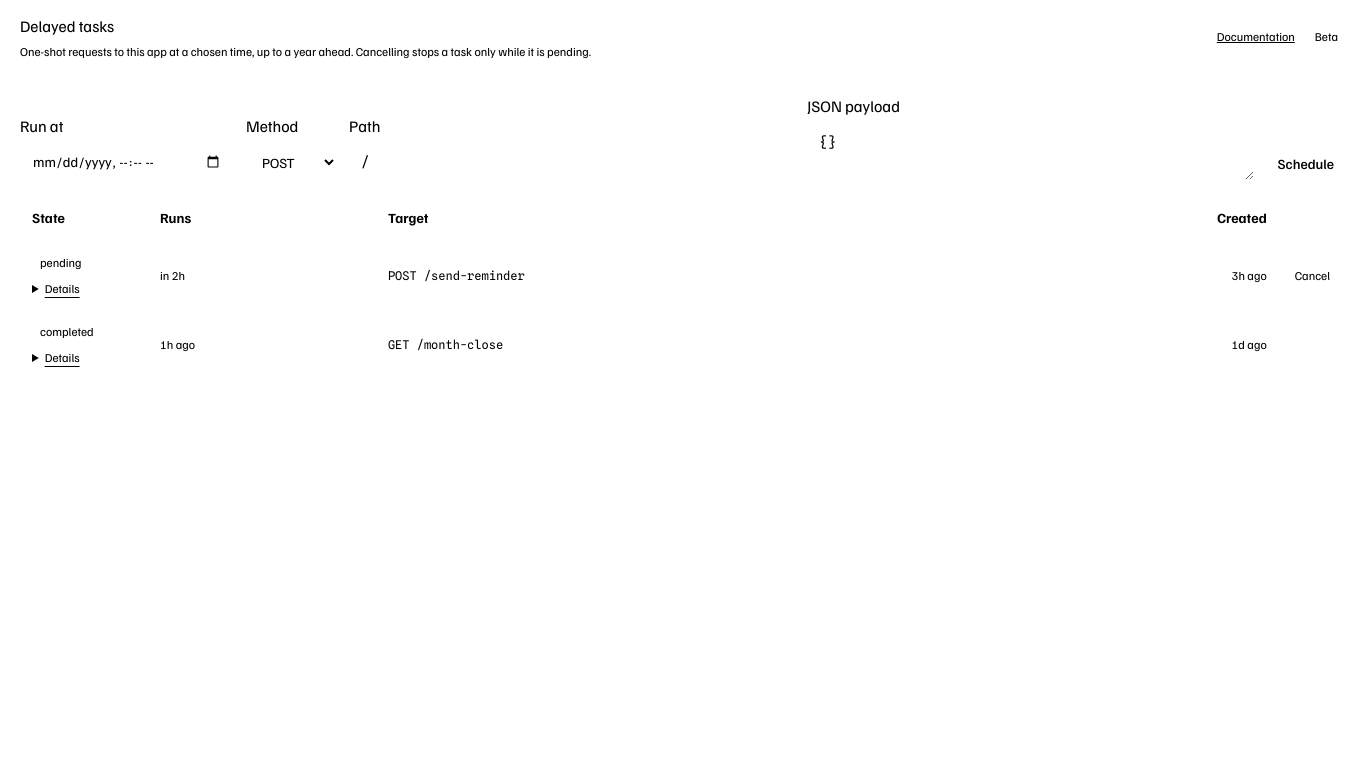
Test: DelayedTasks cancel › offers cancel only on pending tasks, and asks before cancelling
The width and height of the screenshot is (1366, 768).
Click the button with aria-label "cancel task" at x=1312, y=276, box top-left (1295, 268), bottom-right (1330, 284)
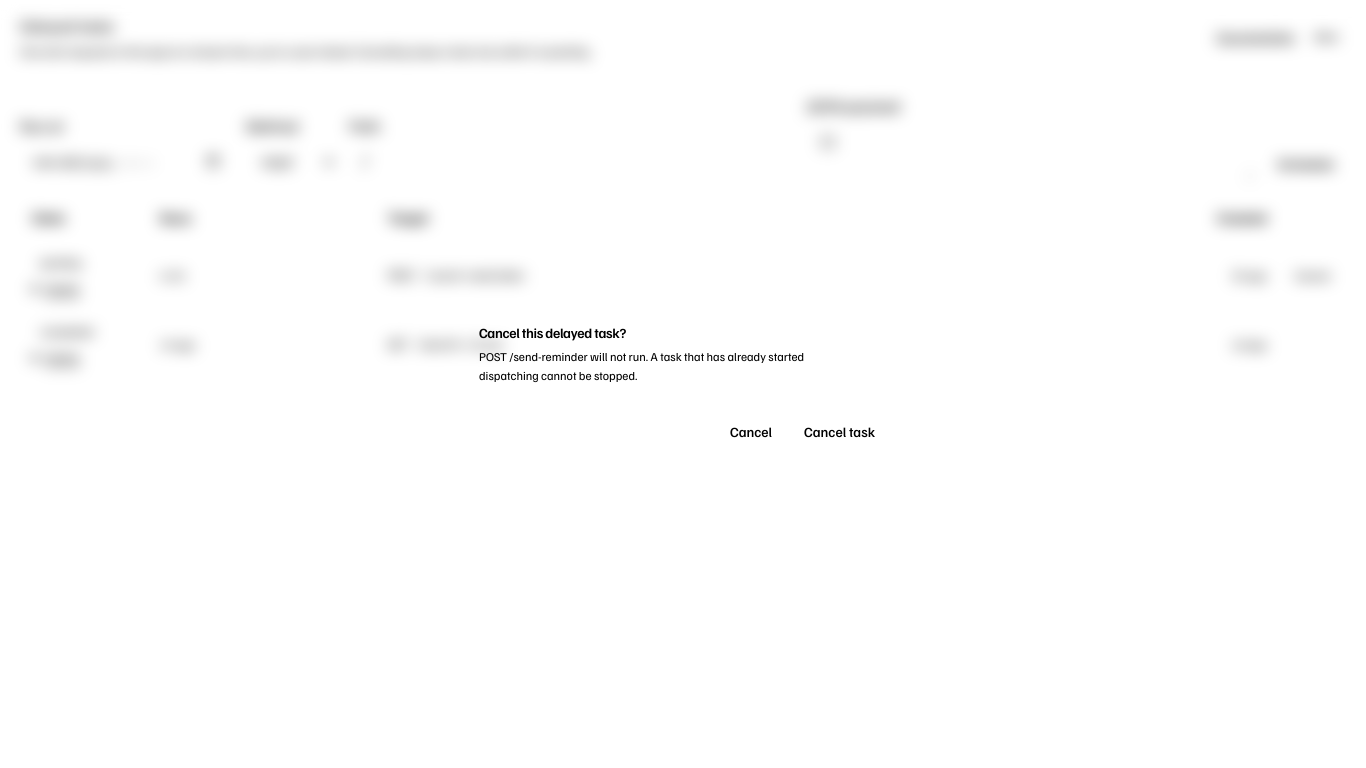
Click the button "Cancel task" at x=840, y=432, box top-left (792, 416), bottom-right (887, 448)
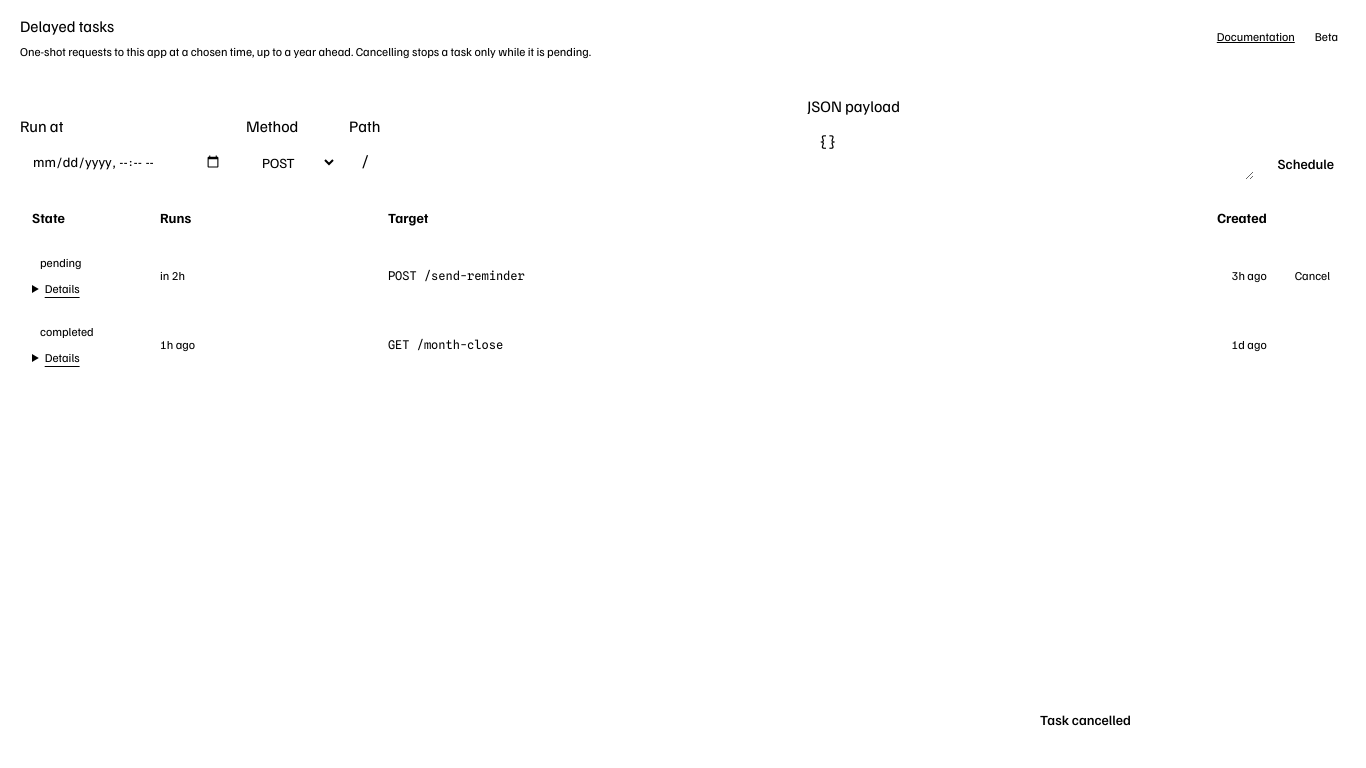
Result: the text "Task cancelled" is shown at top-left (1040, 711), bottom-right (1131, 728)
